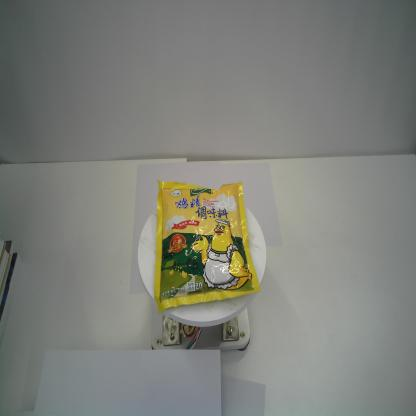Seasoner: (153, 177, 261, 315)
